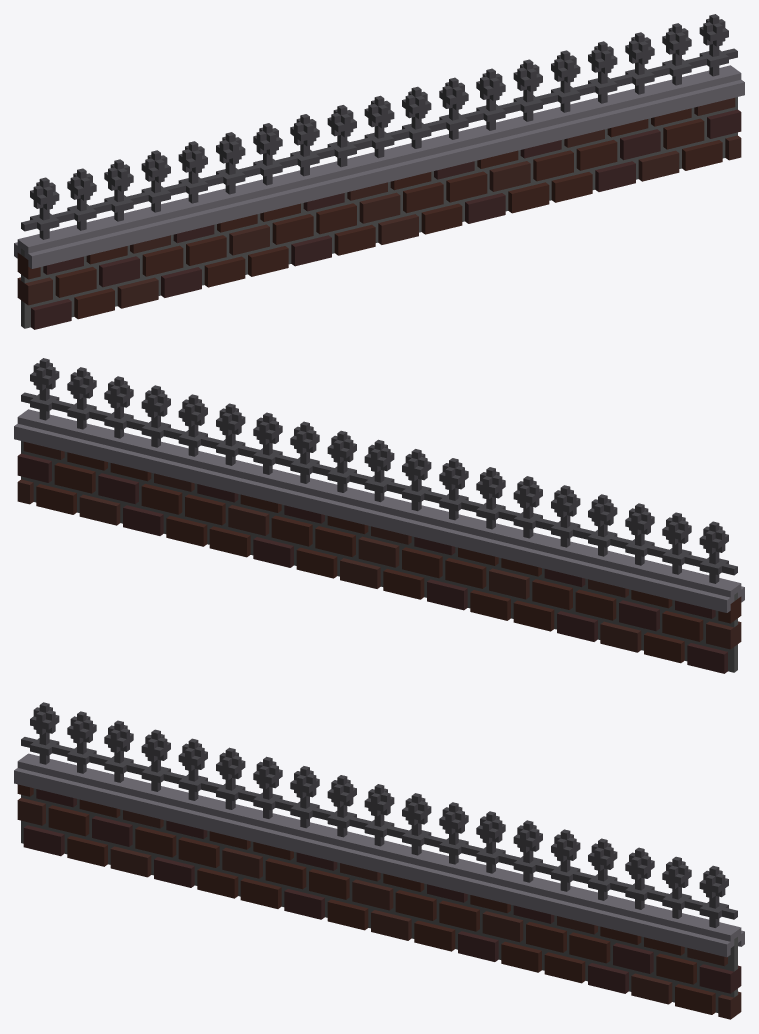
File: Забор-прямой.obj
The picture shows the model from 3 angles, top to bottom: view 1: azimuth 30°, elevation 25°; view 2: azimuth 150°, elevation 25°; view 3: azimuth 330°, elevation 25°; orthographic projection.
Bounding box in the file's own units: 11.5 × 2.2 × 0.5.
1 material, 1 textured.
